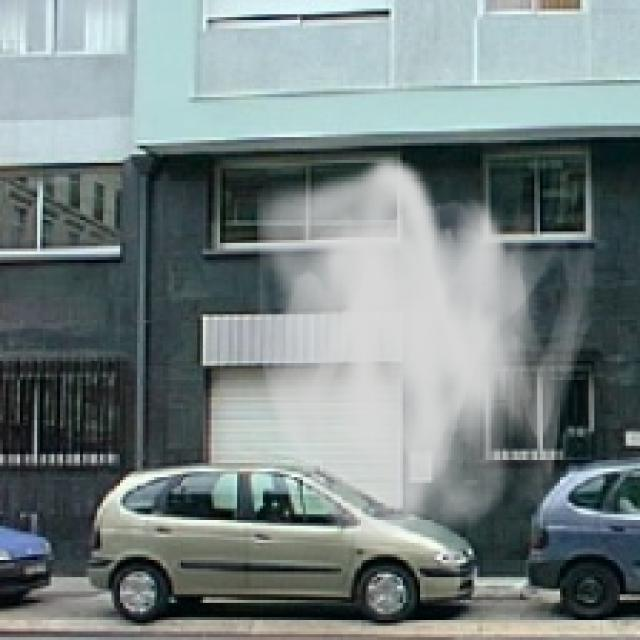Smoke: (245, 154, 600, 563)
